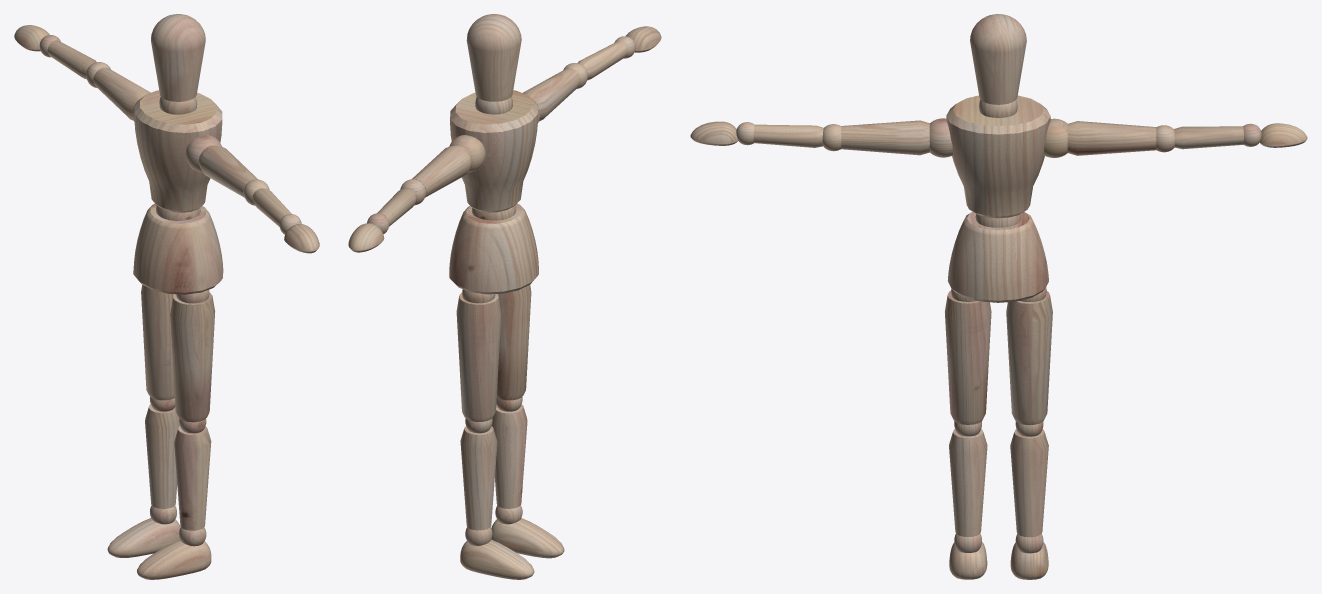
The model's file is avatar_pose_0_clothes_0.glb.
3 views of the same model, side by side, from view 1: azimuth 30°, elevation 25°; view 2: azimuth 150°, elevation 25°; view 3: azimuth 270°, elevation 25° (orthographic). The views are drawn at different scales.
Parts seen in each view (by area): view 1: Object_7; view 2: Object_7; view 3: Object_7.
Boxes of the visible parts, box(x1,y1,x2,y2) form: Object_7: box(14, 14, 319, 579); Object_7: box(348, 14, 661, 579); Object_7: box(690, 14, 1307, 579).
Size of the model in its own units: 2.86 by 15.8 by 15.88.
Materials: 1 (1 with a texture image).
